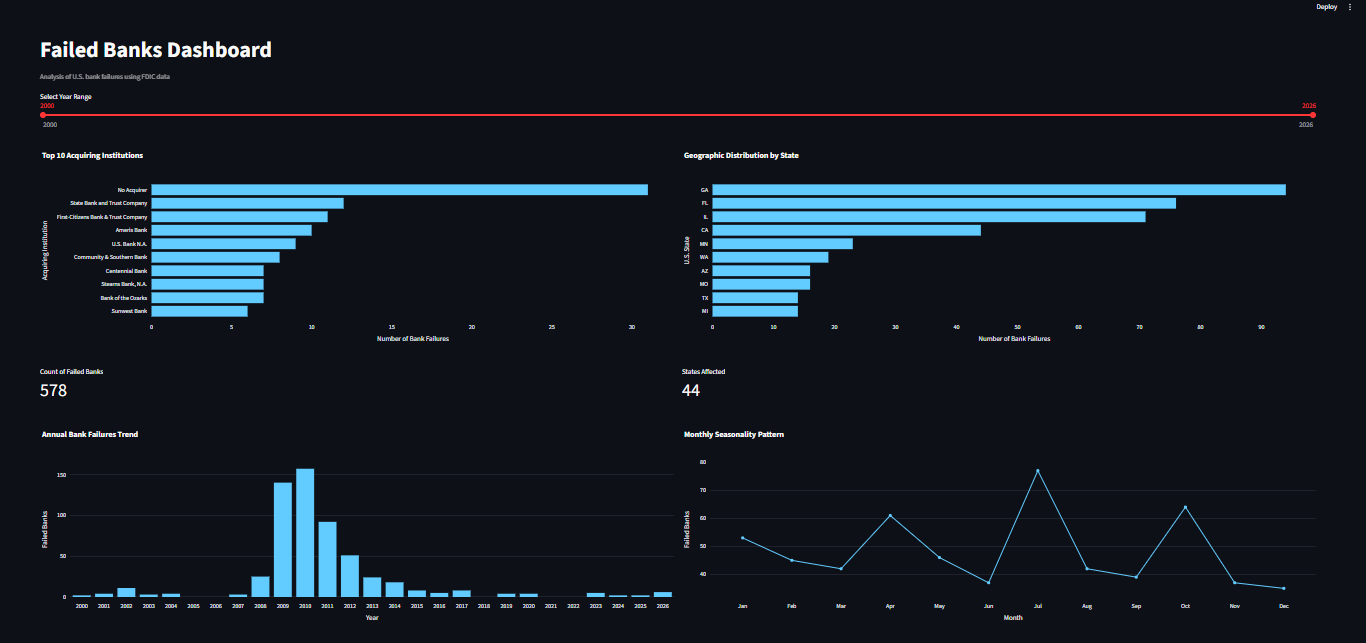

Layout of this report page (visuals, bound fields, positions):
{"tool":"powerbi","page":{"name":"Overview","canvas":[1280,720],"ordinal":0},"visuals":[{"type":"shape","box":[667.5,472.5,612.5,242.5],"z":1000},{"type":"shape","box":[0,471.7,651.7,243.3],"z":2000},{"type":"shape","box":[0,205.1,712.6,271.7],"z":2500},{"type":"shape","box":[712.6,205.1,567.4,271.7],"z":2750},{"type":"barChart","title":"Geographic Distribution by State","fields":{"Category":["Failed Banks.State "],"Y":["CountNonNull(Failed Banks.Bank Name )"]},"box":[726,218,554,254],"z":3000},{"type":"lineStackedColumnComboChart","title":"Annual Bank Failures Trend","fields":{"Category":["Calendar.Date.Variation.Date Hierarchy.Year","Calendar.Date.Variation.Date Hierarchy.Month"],"Y":["CountNonNull(Failed Banks.Bank Name )"]},"box":[0,480,640,240],"z":4000},{"type":"lineChart","title":"Monthly Seasonality Pattern","fields":{"Category":["Calendar.Month"],"Y":["CountNonNull(Failed Banks.Bank Name )"]},"box":[665,480,612.5,240],"z":5000},{"type":"textbox","box":[0,0,1264.3,70.6],"z":6000},{"type":"cardVisual","fields":{"Data":["Count(Failed Banks.State )"]},"box":[268.8,77.5,250,140],"z":7000},{"type":"slicer","title":"Year","fields":{"Values":["Calendar.Year"]},"box":[727.2,95,544.3,113.8],"z":8000},{"type":"clusteredBarChart","title":"Top Acquiring Institution ","fields":{"Category":["Failed Banks.Acquiring Institution "],"Y":["CountNonNull(Failed Banks.Bank Name )"]},"box":[0,218,698,254],"z":9000},{"type":"cardVisual","fields":{"Data":["_measuress.Count of Failed Banks"]},"box":[0,77.5,252.5,140],"z":10000}]}

Visuals, with their boxes on the page's 1280x720 design canvas (x1, y1, x2, y2). These are canvas units, not pixel positions in the 1366x643 screenshot, which may show the page scaled, cropped or inside an application window:
shape: (x1=668, y1=472, x2=1280, y2=715)
shape: (x1=0, y1=472, x2=652, y2=715)
shape: (x1=0, y1=205, x2=713, y2=477)
shape: (x1=713, y1=205, x2=1280, y2=477)
"Geographic Distribution by State" barChart: (x1=726, y1=218, x2=1280, y2=472)
"Annual Bank Failures Trend" lineStackedColumnComboChart: (x1=0, y1=480, x2=640, y2=720)
"Monthly Seasonality Pattern" lineChart: (x1=665, y1=480, x2=1278, y2=720)
textbox: (x1=0, y1=0, x2=1264, y2=71)
cardVisual - Count(Failed Banks.State ): (x1=269, y1=78, x2=519, y2=218)
"Year" slicer: (x1=727, y1=95, x2=1272, y2=209)
"Top Acquiring Institution " clusteredBarChart: (x1=0, y1=218, x2=698, y2=472)
cardVisual - _measuress.Count of Failed Banks: (x1=0, y1=78, x2=252, y2=218)
